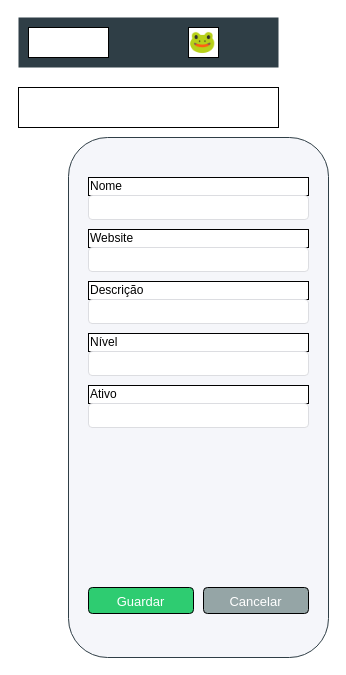
The diagram is 346 pixels wide and 675 high, and some of its shapes have lost their labels. The centre of each missing label's shape, as x and y in pixels:
LOGO Animalec: pixel 68 42
PATROCINADORES — Editar (Mobile): pixel 148 107
